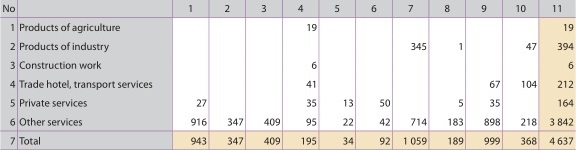column: (20, 4, 151, 150), (550, 1, 573, 150), (404, 1, 426, 150), (516, 1, 536, 150), (371, 3, 390, 150), (225, 1, 243, 150), (262, 1, 280, 150), (298, 1, 316, 150), (335, 1, 353, 150), (482, 2, 500, 150), (445, 3, 463, 150), (189, 1, 206, 150), (2, 2, 15, 150)
row: (1, 79, 576, 89), (1, 4, 576, 13), (1, 23, 576, 32), (1, 43, 576, 52), (1, 61, 576, 69)
